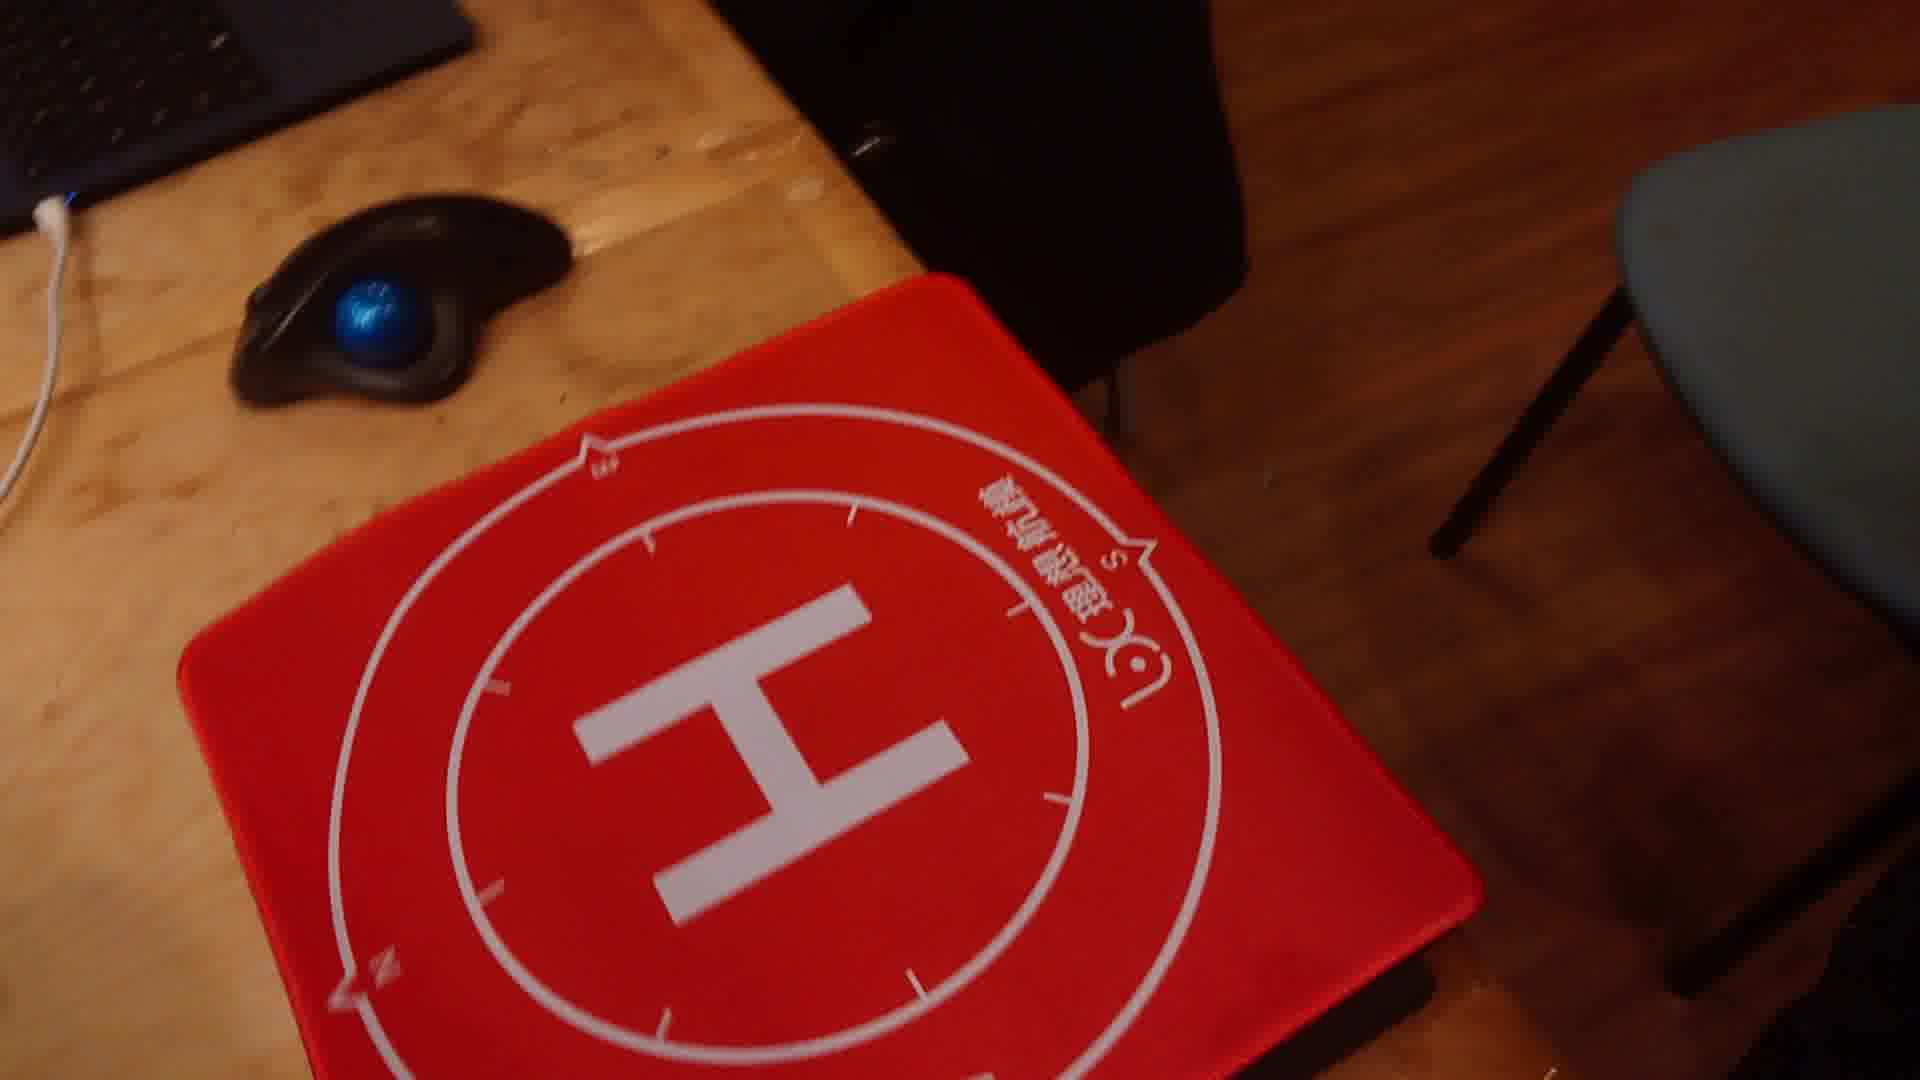H: (571, 584, 971, 928)
